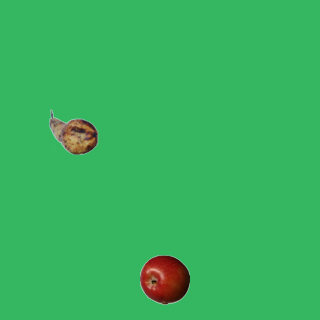Apple Braeburn: (139, 254, 189, 304)
Pear Abate: (48, 107, 98, 157)
